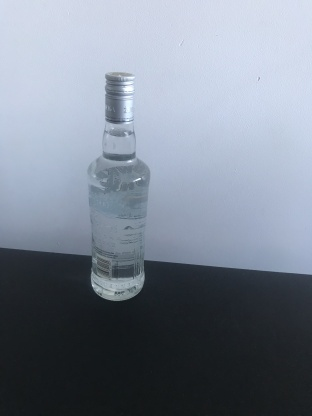nakretka: (103, 69, 136, 124)
